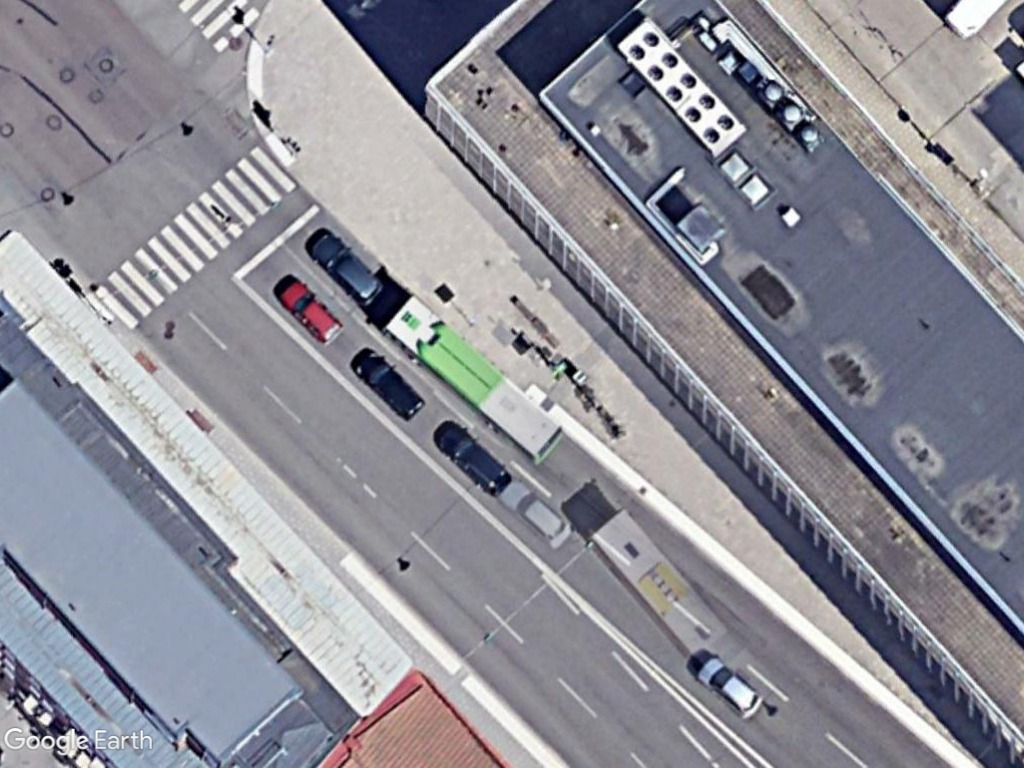bus: (376, 288, 566, 464)
car: (433, 422, 518, 501), (308, 231, 386, 309), (351, 345, 428, 423), (695, 652, 767, 725), (278, 279, 345, 347)
